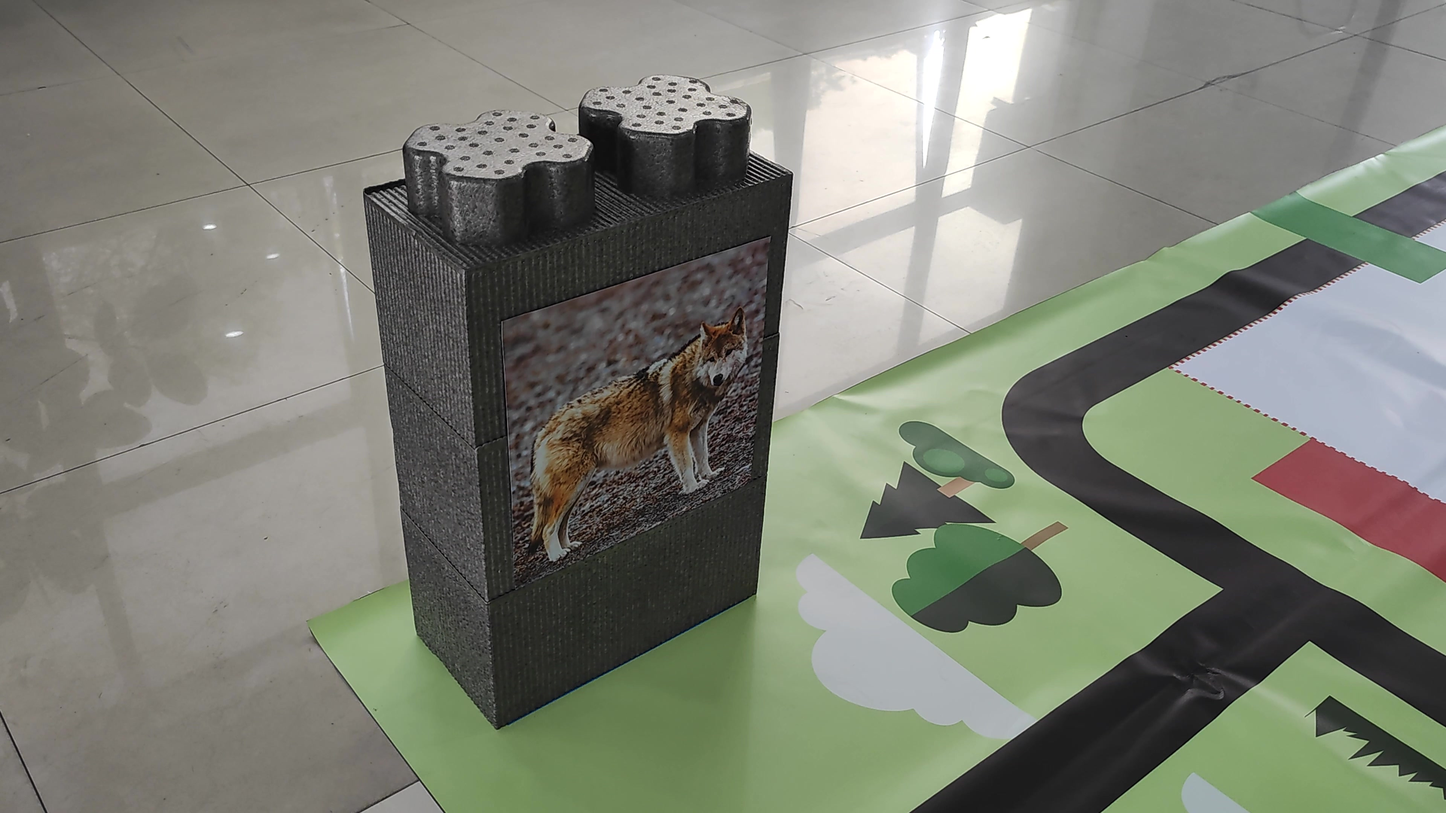wolf: (505, 312, 752, 561)
